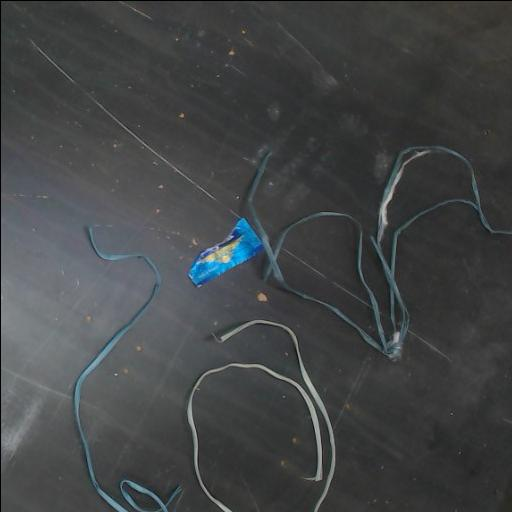conveyor belt: (1, 1, 512, 512), (193, 369, 322, 512), (279, 218, 374, 335), (382, 154, 471, 255), (365, 239, 388, 331)
packet: (188, 217, 262, 285)
thread: (246, 146, 512, 360), (186, 319, 335, 512), (74, 226, 160, 512), (119, 479, 180, 512)
